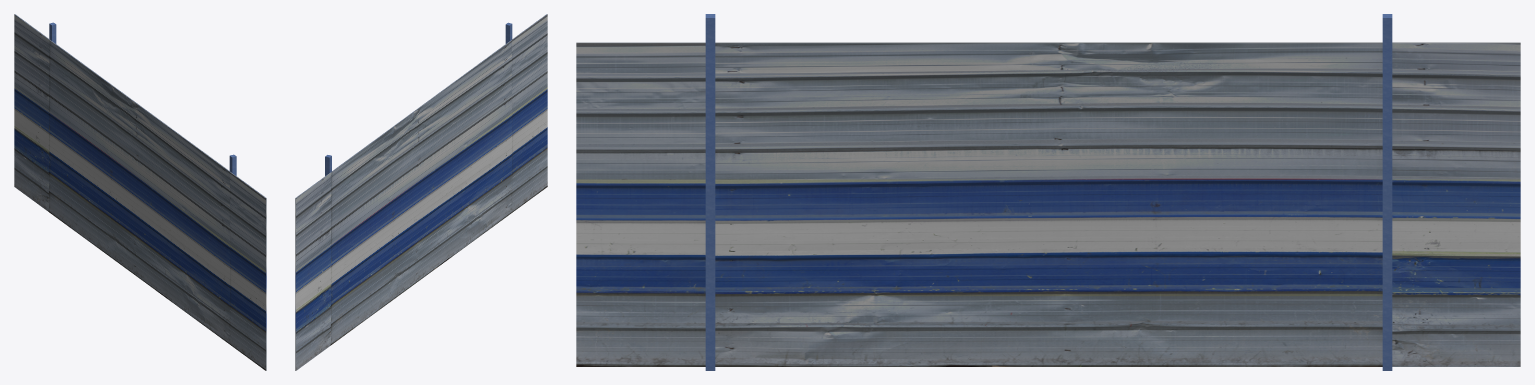
File: MetallFence03.FBX
3 views of the same model, side by side, from view 1: azimuth 30°, elevation 25°; view 2: azimuth 150°, elevation 25°; view 3: azimuth 270°, elevation 25° (orthographic). The views are drawn at different scales.
Parts seen in each view (by area): view 1: MetallFence03, MetalFenceMetal01b; view 2: MetallFence03, MetalFenceMetal01b; view 3: MetallFence03, MetalFenceMetal01b.
Boxes of the visible parts, x1=… form: MetallFence03: x1=14, y1=14, x2=266, y2=370; MetalFenceMetal01b: x1=49, y1=22, x2=236, y2=175; MetallFence03: x1=295, y1=14, x2=547, y2=370; MetalFenceMetal01b: x1=325, y1=22, x2=512, y2=175; MetallFence03: x1=576, y1=42, x2=1520, y2=366; MetalFenceMetal01b: x1=705, y1=14, x2=1392, y2=370.
Size of the model in its own units: 6.43 by 220 by 534.
